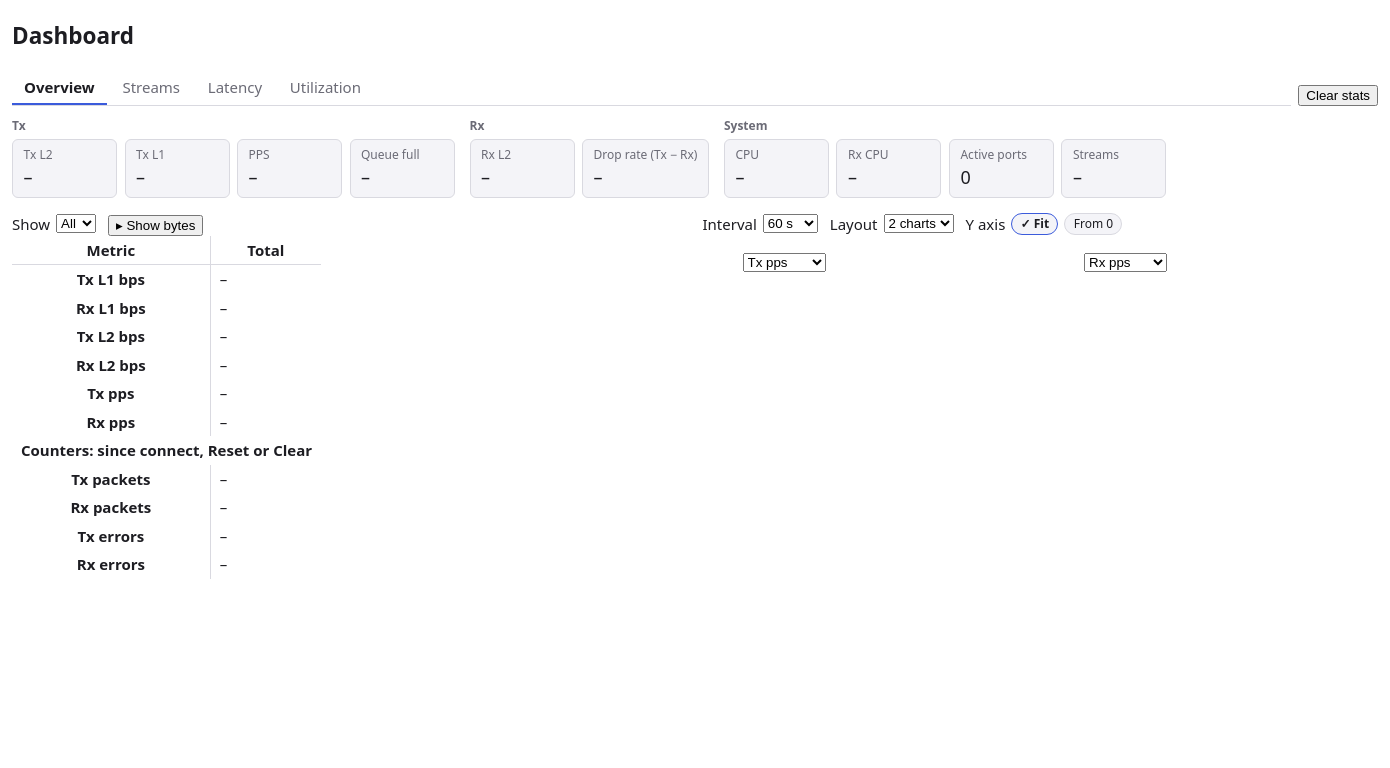
it: DashboardPage Utilization tab › shows the CPU and mbuf tables only while the tab is shown, and keeps the chart mounted
The width and height of the screenshot is (1390, 768).
Check: the table "CPU utilization" is not shown
Click the tab "Utilization" at (325, 88), box [278,71,373,105]
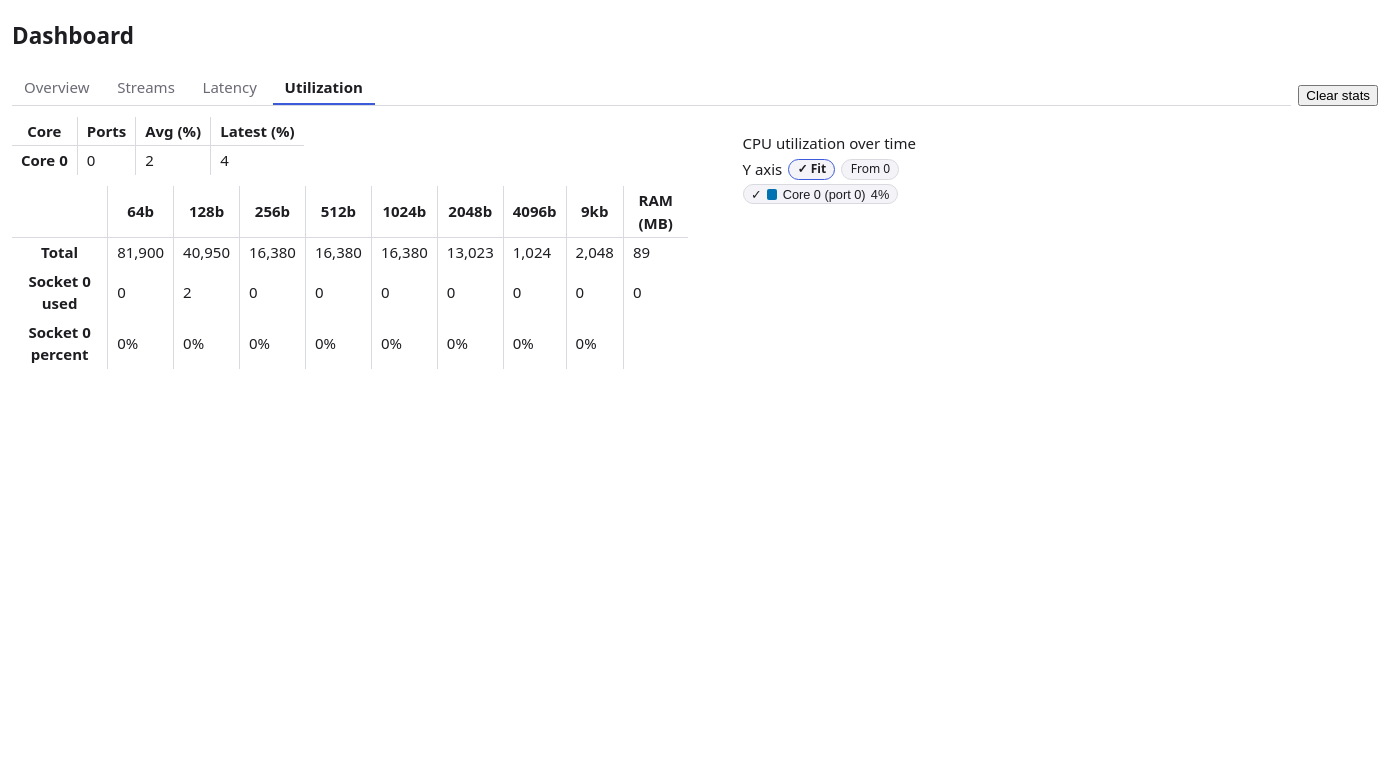
Check: the table named "CPU utilization" is shown, box [12,117,304,175]
Check: the table named "Mbuf utilization" is shown, box [12,186,688,369]
